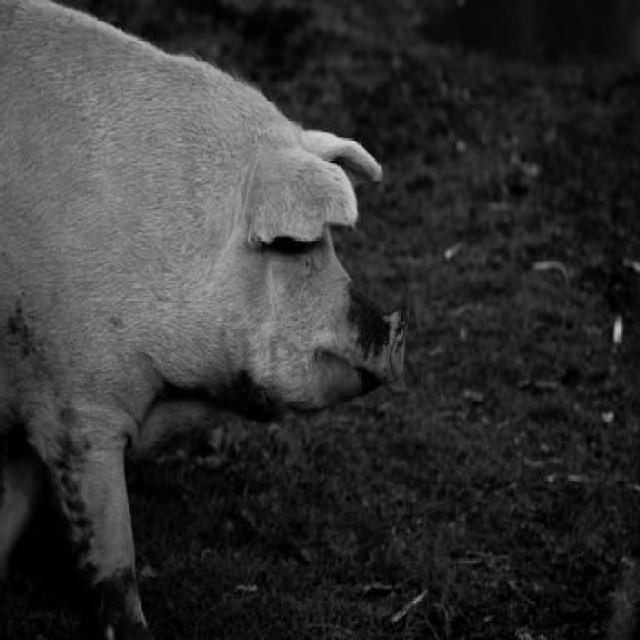Boar: (0, 0, 408, 640)
